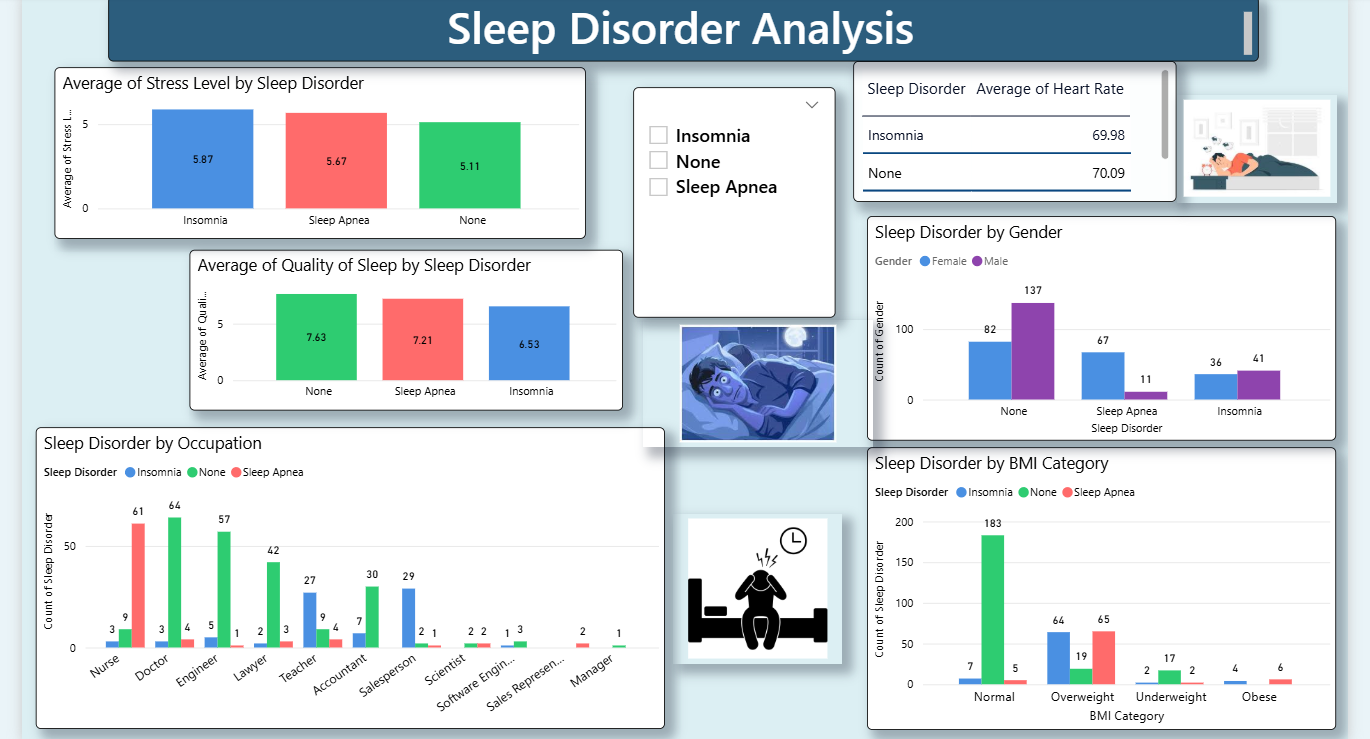

This screenshot's page, from the dashboard's own definition file:
{"tool":"powerbi","page":{"name":"Sleep Disorder by BMI, Occupation & Gender","canvas":[1280,720],"ordinal":3},"visuals":[{"type":"clusteredColumnChart","title":"Sleep Disorder by Occupation","fields":{"Y":["CountNonNull(Sleep disorder.Sleep Disorder)"],"Category":["Sleep disorder.Occupation"],"Series":["Sleep disorder.Sleep Disorder"]},"box":[13.8,416.5,607.5,290.8],"z":0},{"type":"clusteredColumnChart","title":"Sleep Disorder by BMI Category","fields":{"Category":["By Gender.BMI Category"],"Series":["By Gender.Sleep Disorder"],"Y":["CountNonNull(By Gender.Sleep Disorder)"]},"box":[815,435,453,273],"z":1000},{"type":"columnChart","title":"Average of Quality of Sleep by Sleep Disorder ","fields":{"Y":["Avg(Sleep disorder.Quality of Sleep)"],"Category":["Sleep disorder.Sleep Disorder"],"Series":["Sleep disorder.Sleep Disorder"]},"box":[161.8,244.4,418.2,154.9],"z":2000},{"type":"clusteredColumnChart","title":"Sleep Disorder by Gender","fields":{"Category":["By Gender.Sleep Disorder"],"Y":["CountNonNull(By Gender.Gender)"],"Series":["By Gender.Gender"]},"box":[815,212,453,217],"z":3000},{"type":"columnChart","title":"Average of Stress Level by Sleep Disorder","fields":{"Category":["Sleep disorder.Sleep Disorder"],"Y":["Avg(Sleep disorder.Stress Level)"],"Series":["Sleep disorder.Sleep Disorder"]},"box":[31,68.8,512.8,165.2],"z":4000},{"type":"tableEx","fields":{"Values":["Sleep disorder.Sleep Disorder","Avg(Overview.Heart Rate)"]},"box":[802,63,312,136],"z":5000},{"type":"textbox","box":[82.8,0,1110.4,63.2],"z":6000},{"type":"slicer","fields":{"Values":["Sleep disorder.Sleep Disorder"]},"box":[590,88,195,222],"z":7000},{"type":"image","box":[599.6,312.5,222,123.1],"z":8000},{"type":"image","box":[1114.8,95.3,154.4,103.8],"z":9000},{"type":"image","box":[628.6,499.5,162.9,144.8],"z":10000}]}

Visuals, with their boxes in screenshot pixels (x1, y1, x2, y2):
"Sleep Disorder by Occupation" clusteredColumnChart: rect(18, 426, 655, 731)
"Sleep Disorder by BMI Category" clusteredColumnChart: rect(858, 445, 1333, 732)
"Average of Quality of Sleep by Sleep Disorder " columnChart: rect(173, 246, 612, 408)
"Sleep Disorder by Gender" clusteredColumnChart: rect(858, 212, 1333, 439)
"Average of Stress Level by Sleep Disorder" columnChart: rect(36, 61, 574, 235)
tableEx - Sleep disorder.Sleep Disorder x Avg(Overview.Heart Rate): rect(845, 55, 1172, 198)
textbox: rect(90, 0, 1255, 56)
slicer - Sleep disorder.Sleep Disorder: rect(622, 82, 827, 314)
image: rect(632, 317, 865, 446)
image: rect(1173, 89, 1335, 198)
image: rect(663, 513, 834, 665)
